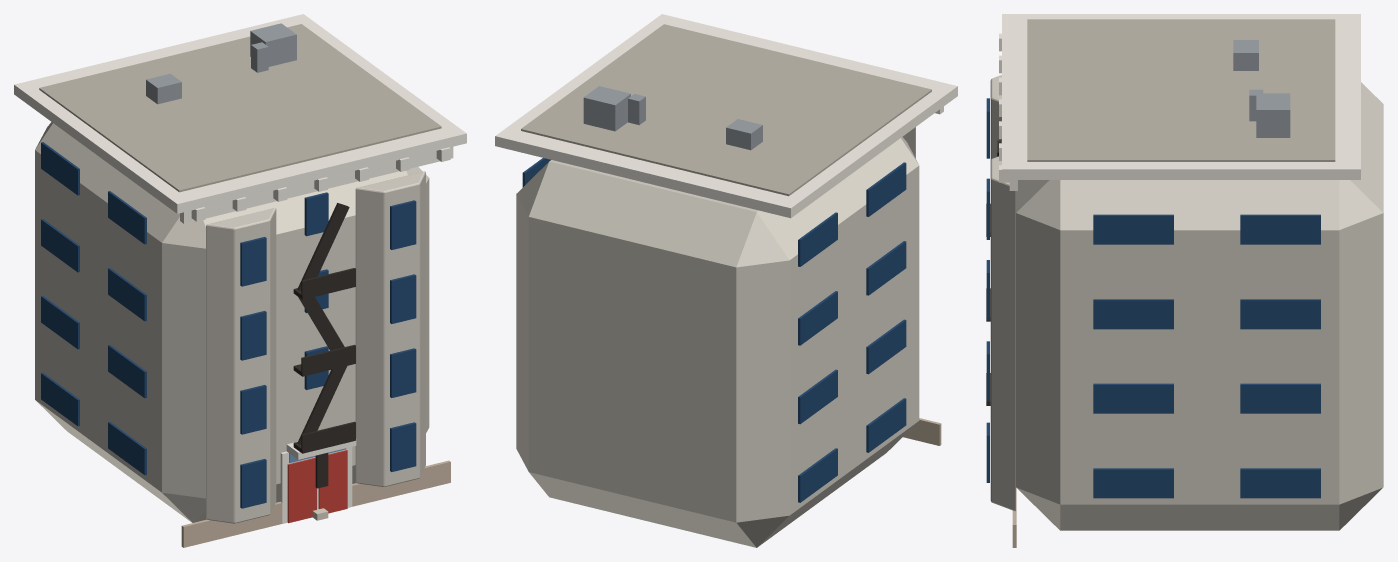
The model's file is aptfe_w12_f4.glb.
The picture shows the model from 3 angles, left to right: view 1: azimuth 30°, elevation 25°; view 2: azimuth 150°, elevation 25°; view 3: azimuth 270°, elevation 25°; orthographic projection. The views are drawn at different scales.
Visible parts, largest first — view 1: walls, roofslab, bay, bay.001, corn, bsmt, frieze, door, door.001, hvac2, bw, bw.001 (+23 smaller); view 2: walls, roofslab, corn, hvac2, sb.008, sb, sb.012, sb.004, sb.002, sb.010, sb.006, sb.014 (+2 smaller); view 3: walls, roofslab, corn, bay.001, sb.001, sb.003, sb.005, sb.007, sb.009, sb.011, sb.013, sb.015 (+3 smaller).
Part boxes in pixels (x1,y1,x2,y2): walls: (35, 122, 429, 522); roofslab: (39, 24, 441, 192); bay: (206, 208, 276, 523); bay.001: (355, 171, 425, 486); corn: (14, 14, 466, 213); bsmt: (181, 460, 450, 547); frieze: (180, 147, 453, 223); door: (287, 457, 316, 523); door.001: (318, 450, 347, 513); hvac2: (250, 23, 296, 66); bw: (240, 459, 266, 508); bw.001: (240, 385, 266, 434); walls: (516, 137, 919, 547); roofslab: (521, 24, 931, 196); corn: (495, 14, 957, 218); hvac2: (583, 86, 630, 131); sb.008: (866, 241, 906, 295); sb: (866, 398, 906, 452); sb.012: (866, 162, 906, 216); sb.004: (866, 319, 906, 374); sb.002: (798, 448, 837, 502); sb.010: (798, 291, 837, 345); sb.006: (798, 369, 837, 424); sb.014: (798, 212, 837, 266); walls: (1016, 82, 1383, 530); roofslab: (1027, 19, 1335, 161); corn: (1002, 14, 1360, 179); bay.001: (990, 156, 1015, 511); sb.001: (1093, 468, 1173, 498); sb.003: (1240, 468, 1320, 498); sb.005: (1093, 383, 1173, 413); sb.007: (1240, 383, 1320, 413); sb.009: (1093, 299, 1173, 329); sb.011: (1240, 299, 1320, 329); sb.013: (1093, 214, 1173, 244); sb.015: (1240, 214, 1320, 244).
Bounding box in the file's own units: 13 × 16.2 × 14.05.
